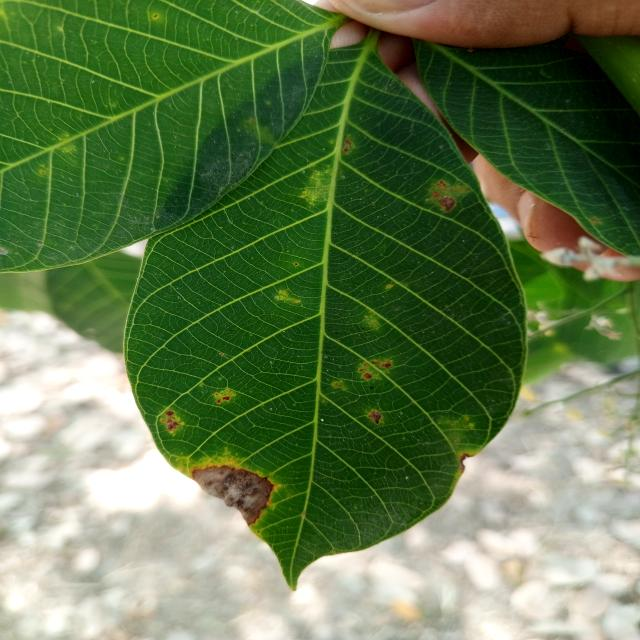Leaf-Blight: (192, 465, 274, 526)
